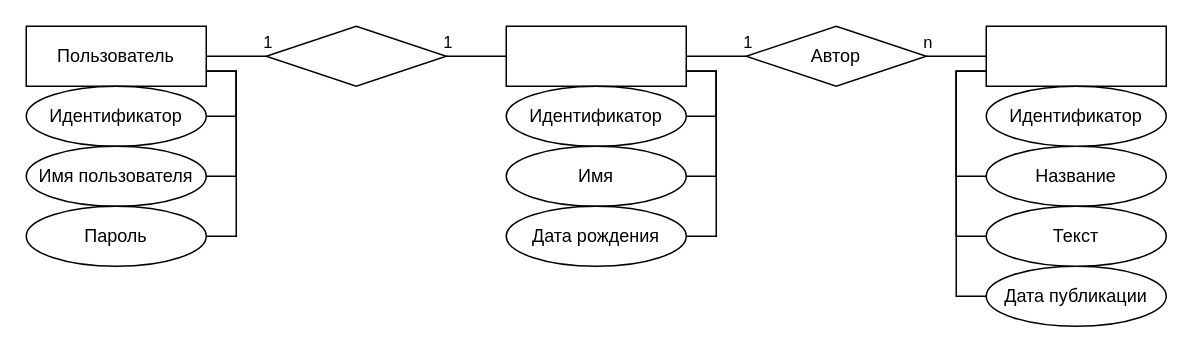
Image size: 1193x353. Some labels were removed from this diagram. The shapes that lost their labels are listed below. From the top down, each one's box as (x1, y1, x2, y2) in pixels, then its label:
(265, 25, 446, 86): Является
(505, 25, 686, 86): Участник форума
(985, 25, 1166, 86): Пост
